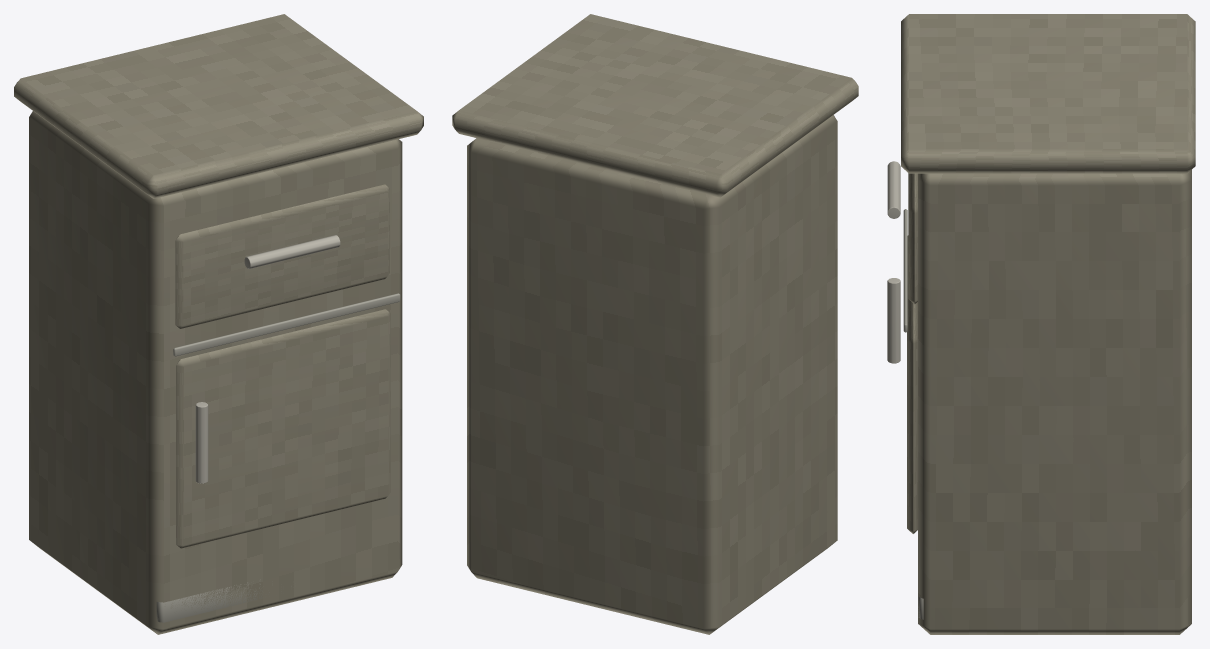
File: SmallCabinet_A.glb
The picture shows the model from 3 angles, left to right: view 1: azimuth 30°, elevation 25°; view 2: azimuth 150°, elevation 25°; view 3: azimuth 270°, elevation 25°; orthographic projection. The views are drawn at different scales.
Parts seen in each view (by area): view 1: SmallCabinet_A_body, SmallCabinet_A_top_lip, SmallCabinet_A_door_front, SmallCabinet_A_drawer_front, SmallCabinet_A_panel_gap, SmallCabinet_A_base_shadow, SmallCabinet_A_drawer_handle, SmallCabinet_A_door_handle; view 2: SmallCabinet_A_body, SmallCabinet_A_top_lip; view 3: SmallCabinet_A_body, SmallCabinet_A_top_lip, SmallCabinet_A_door_front, SmallCabinet_A_drawer_front, SmallCabinet_A_door_handle, SmallCabinet_A_drawer_handle, SmallCabinet_A_panel_gap.
Part boxes in pixels (box(x1,y1,x2,y2)): SmallCabinet_A_body: box(29, 111, 402, 634); SmallCabinet_A_top_lip: box(14, 14, 423, 198); SmallCabinet_A_door_front: box(176, 309, 390, 548); SmallCabinet_A_drawer_front: box(175, 184, 389, 328); SmallCabinet_A_panel_gap: box(173, 293, 400, 356); SmallCabinet_A_base_shadow: box(156, 579, 293, 622); SmallCabinet_A_drawer_handle: box(244, 235, 340, 268); SmallCabinet_A_door_handle: box(195, 402, 208, 483); SmallCabinet_A_body: box(467, 115, 837, 634); SmallCabinet_A_top_lip: box(452, 14, 858, 197); SmallCabinet_A_body: box(918, 170, 1191, 634); SmallCabinet_A_top_lip: box(901, 14, 1195, 173); SmallCabinet_A_door_front: box(907, 235, 917, 533); SmallCabinet_A_drawer_front: box(908, 173, 917, 304); SmallCabinet_A_door_handle: box(887, 278, 900, 363); SmallCabinet_A_drawer_handle: box(887, 161, 900, 218); SmallCabinet_A_panel_gap: box(903, 209, 907, 332).
Bounding box in the file's own units: 0.49 × 0.795 × 0.4496.
Materials: 3 (1 with a texture image).
